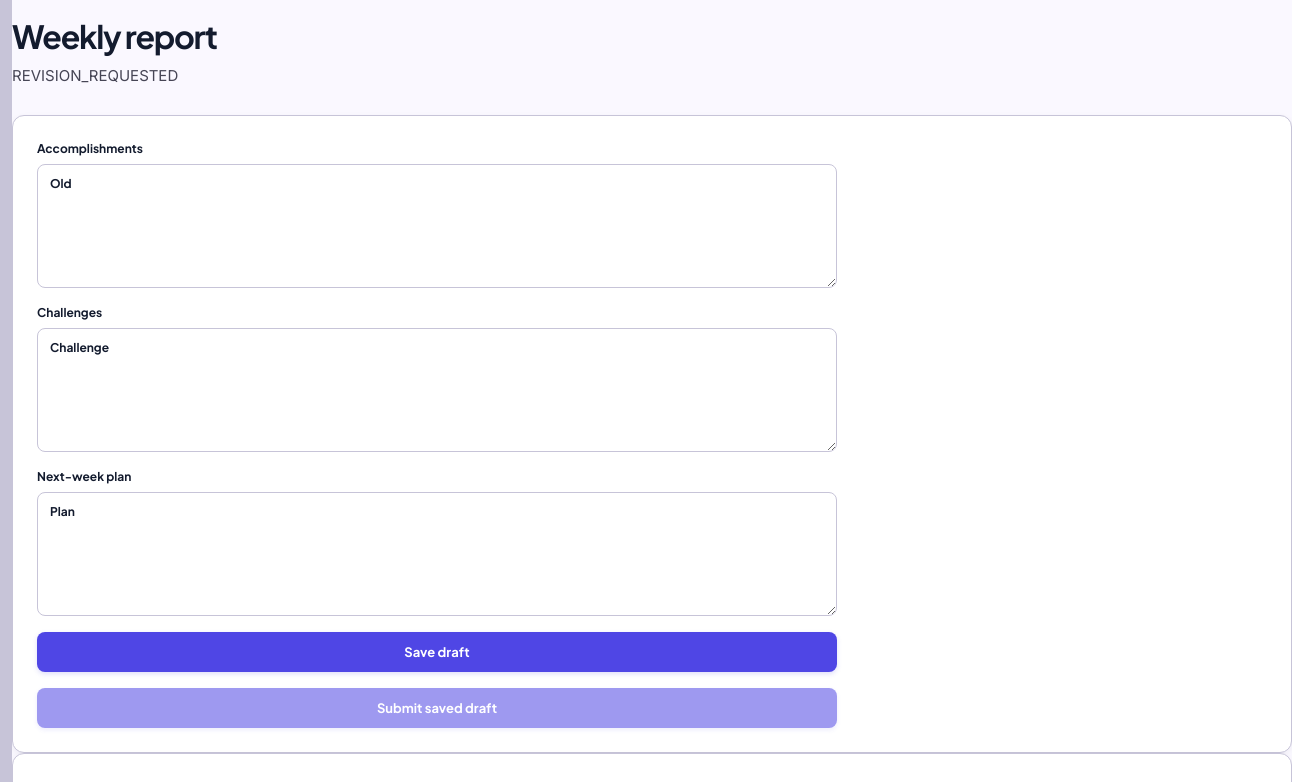
Test: preserves attachments when a student revises a submitted report
Replace the text in the text box labelled "Accomplishments" with "12 tests" at (437, 226), box [37,164,837,288]
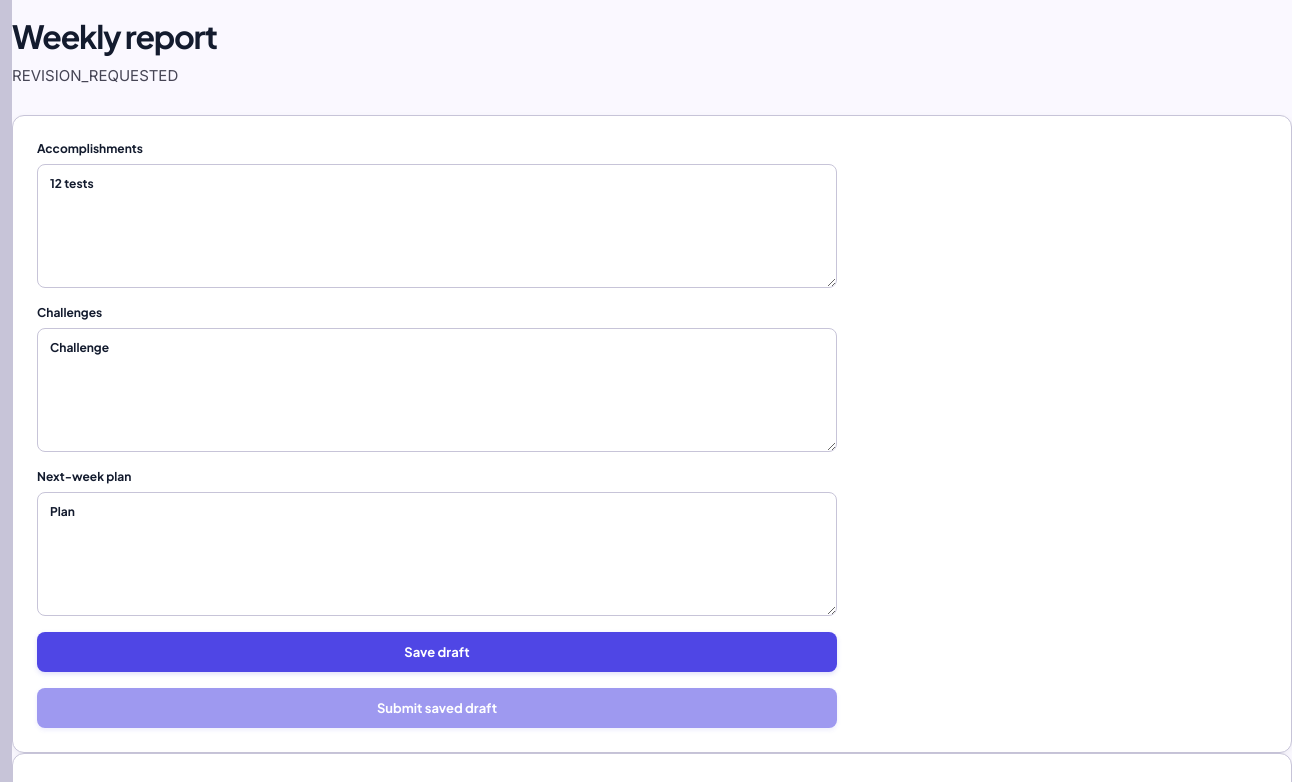
Click the button "Save draft" at (437, 652), box [37,632,837,672]
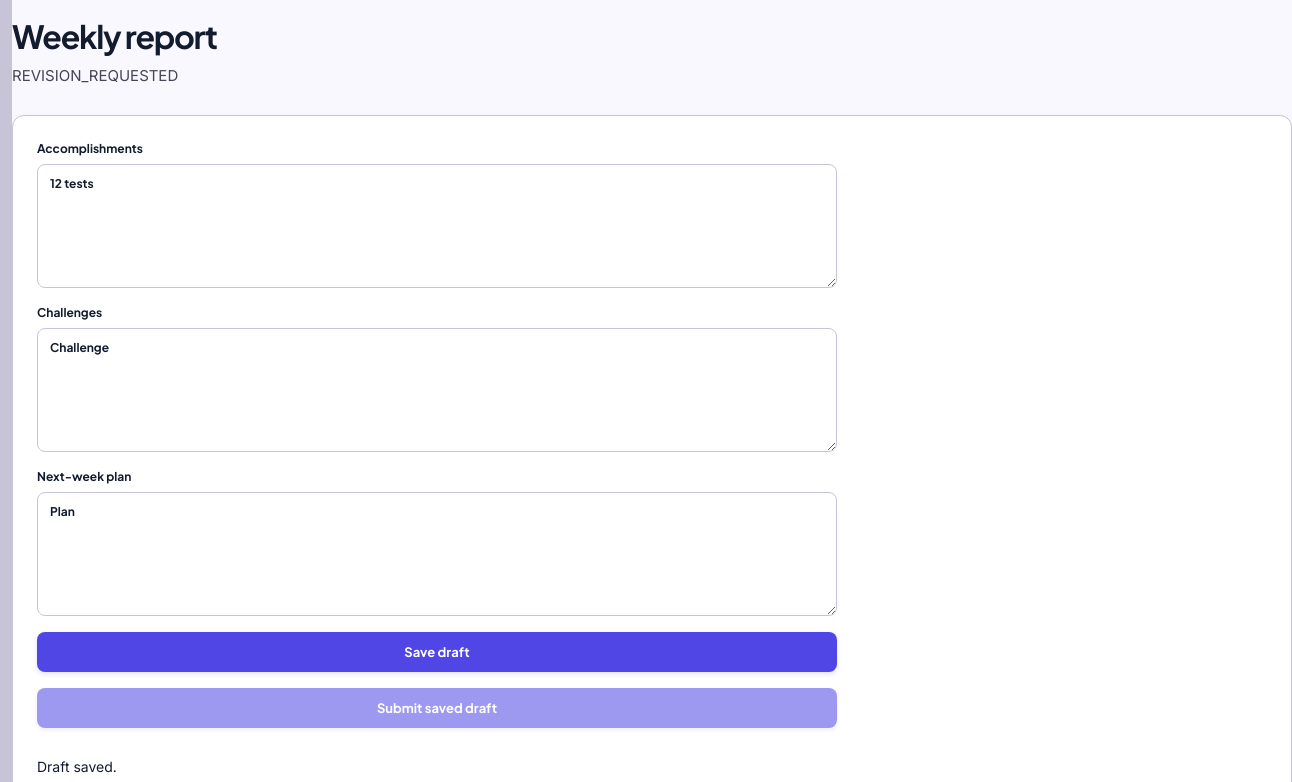
Check: the text "Draft saved." is shown, box [37,758,117,775]
